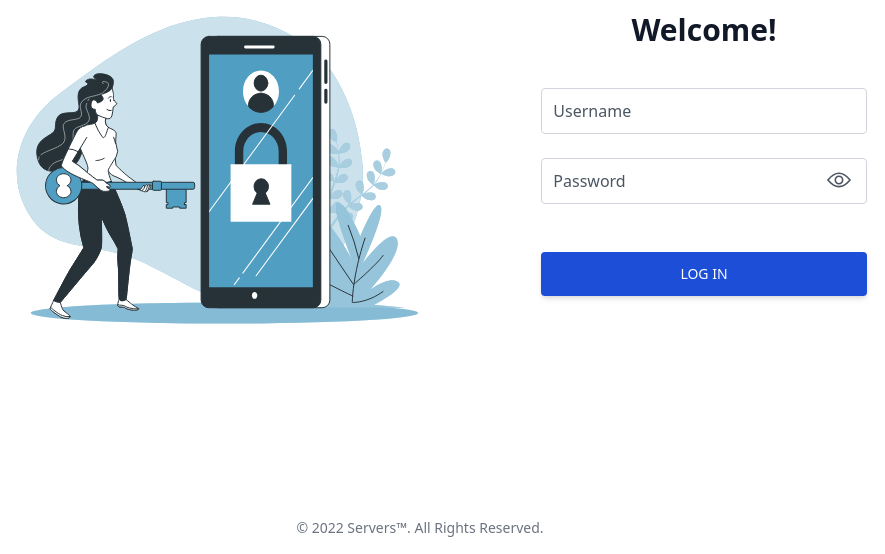
it: Login › fails to login with invalid credentials
Type "bad" into the field named "username". click: point(704, 111)
box: [541, 88, 866, 134]
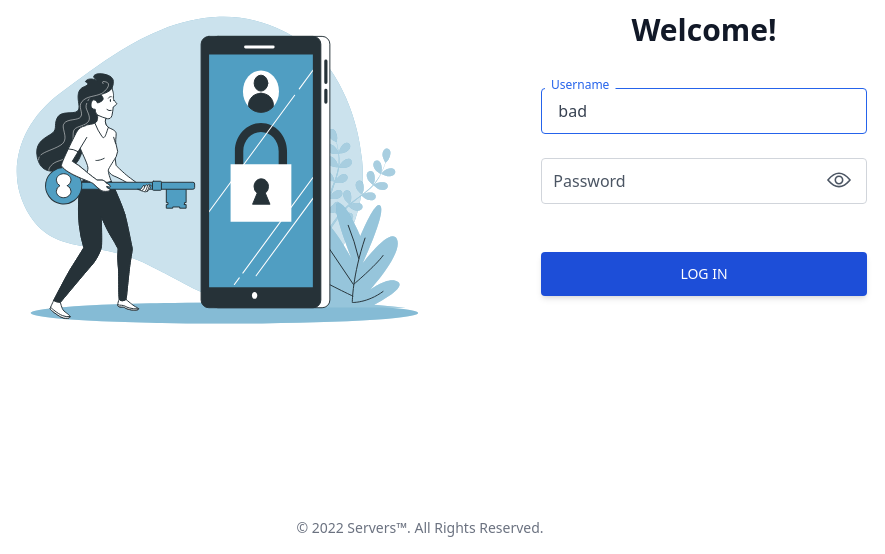
Type "verybad" into the password field named "password". click: point(704, 181)
box: [541, 158, 866, 204]
Then press Enter
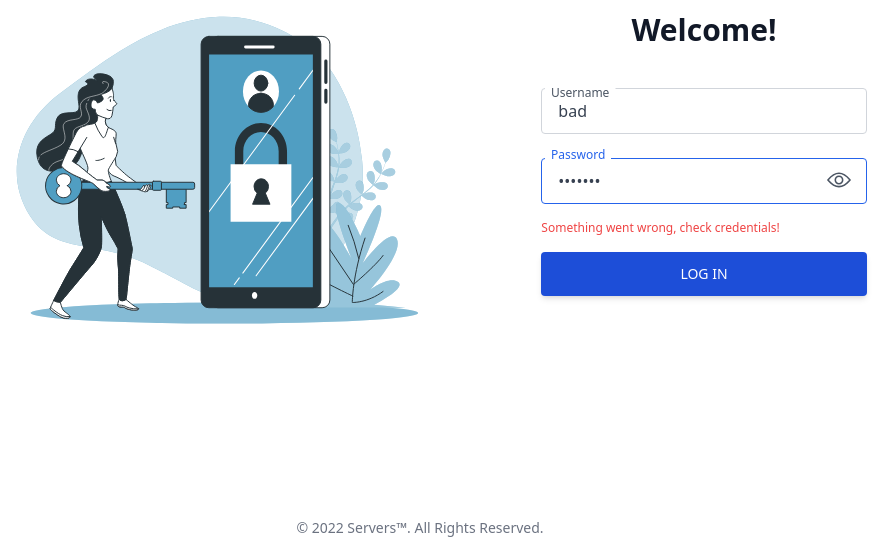
Check: the text "Something went wrong, check credentials!" is shown, box [541, 219, 780, 236]
